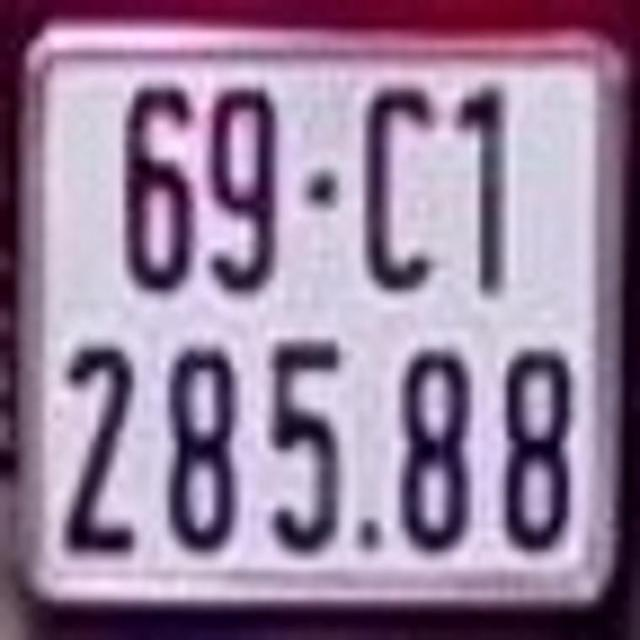1: (457, 87, 511, 296)
2: (63, 343, 141, 548)
5: (266, 335, 344, 550)
6: (119, 84, 196, 290)
8: (162, 342, 242, 550), (403, 349, 472, 560), (503, 340, 571, 554)
9: (209, 82, 277, 293)
C: (362, 84, 445, 295)
